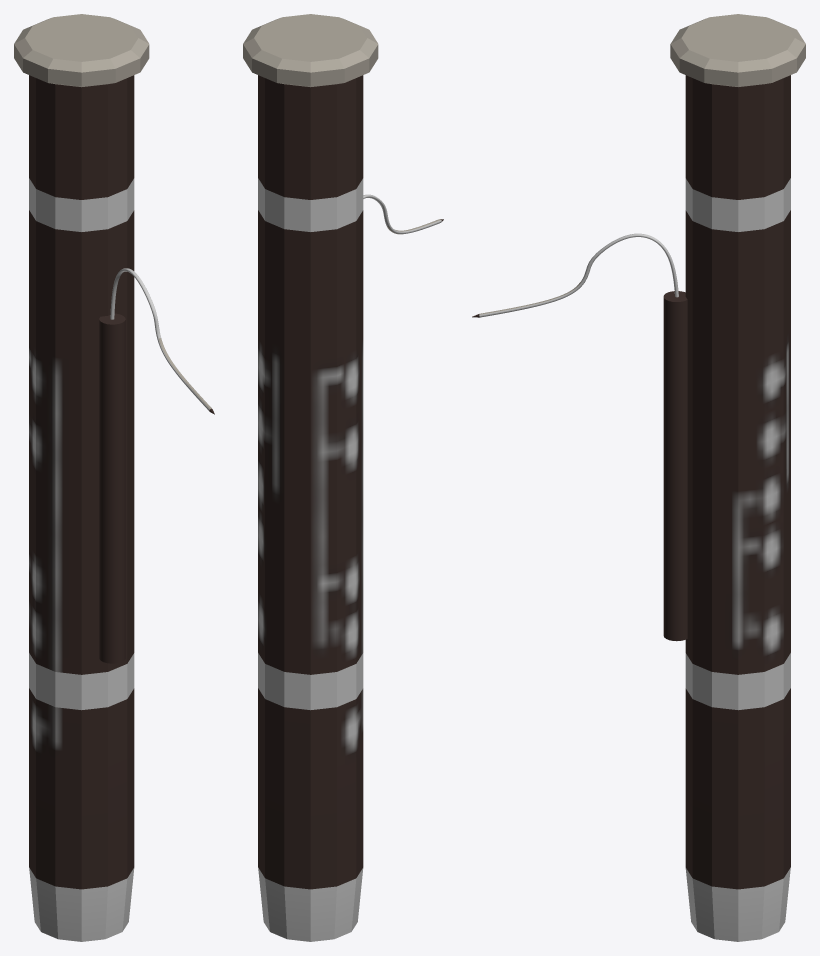
File: bassoon.fbx
3 views of the same model, side by side, from view 1: azimuth 30°, elevation 25°; view 2: azimuth 150°, elevation 25°; view 3: azimuth 270°, elevation 25° (orthographic).
Parts seen in each view (by area): view 1: pCylinder3; view 2: pCylinder3; view 3: pCylinder3.
Boxes of the visible parts, bbox=[...] form: pCylinder3: bbox=[14, 14, 214, 941]; pCylinder3: bbox=[243, 14, 443, 941]; pCylinder3: bbox=[472, 14, 805, 941].
Bounding box in the file's own units: 2.09 × 15.03 × 5.15.
Materials: 1 (1 with a texture image).
